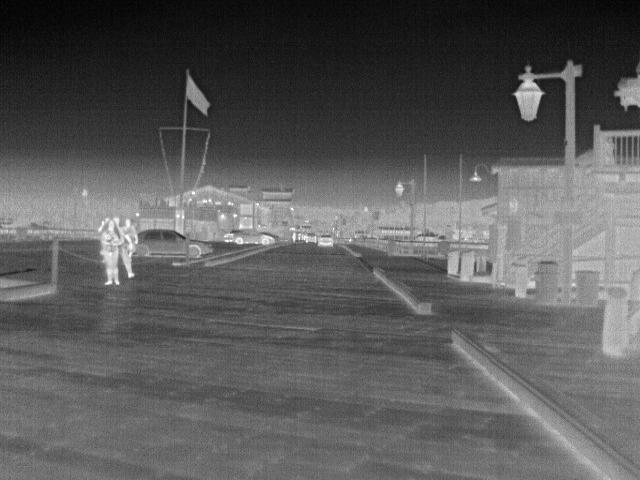car: (130, 227, 213, 257), (230, 226, 278, 246), (222, 228, 243, 243), (316, 234, 334, 248), (305, 232, 319, 244)
person: (105, 216, 136, 278), (98, 218, 121, 286), (120, 218, 139, 252), (290, 228, 297, 244)
